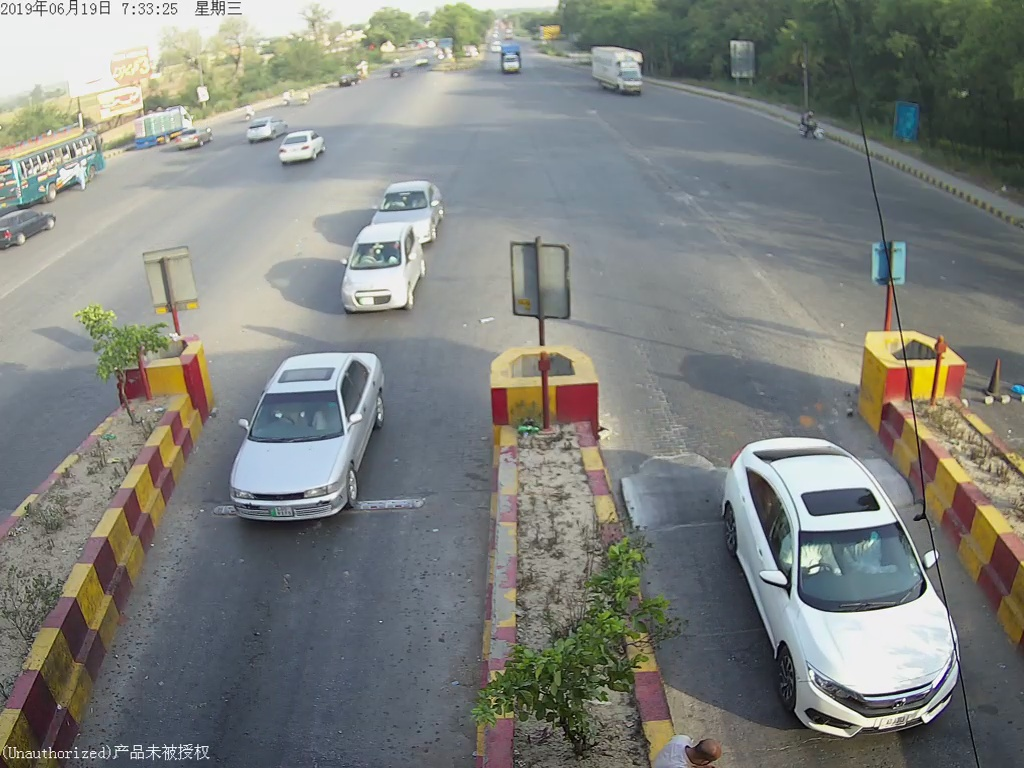Cat-1: (714, 408, 975, 757), (224, 351, 404, 537), (329, 227, 441, 322)
